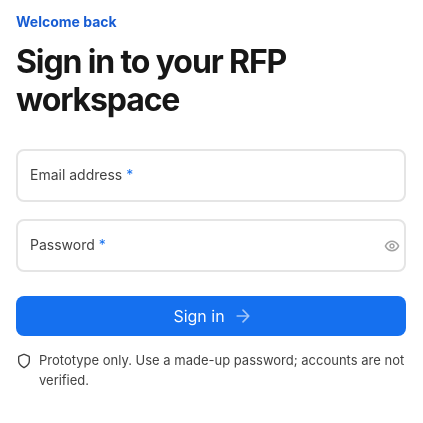
SignInForm › moves focus to the email field when submitted with an invalid email
The image size is (423, 423).
Type "not-an-email" into the field labelled "Email address *".
click(211, 176); type("not-an-email")  # box left=16, top=149, right=406, bottom=202
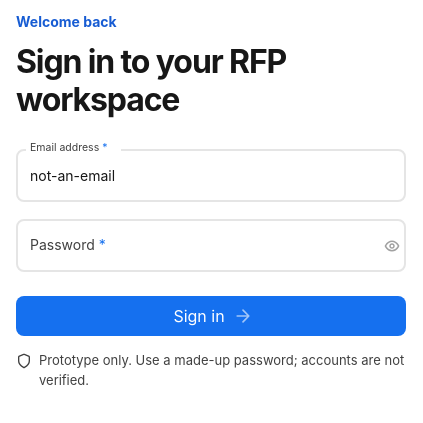
Type "password123" into the password field labelled "Password *".
click(194, 246); type("password123")  # box left=16, top=219, right=372, bottom=272
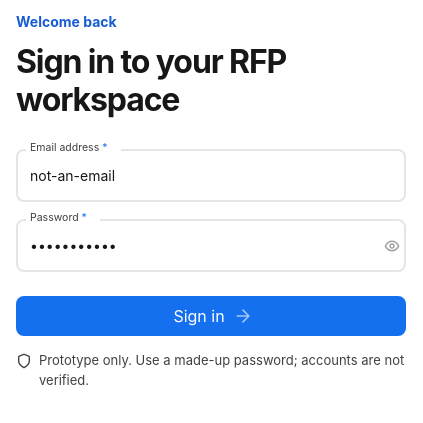
Click the button "Sign in".
click(211, 316)  # box left=16, top=296, right=406, bottom=336
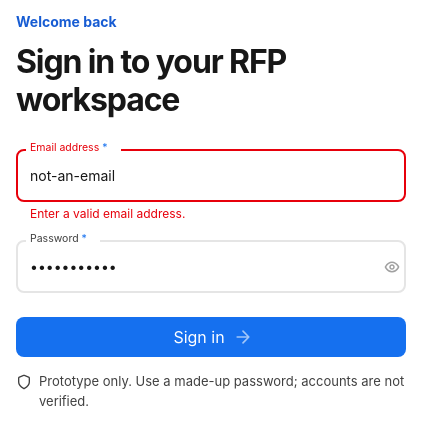
Result: the text "Enter a valid email address." is shown at left=30, top=206, right=185, bottom=221
